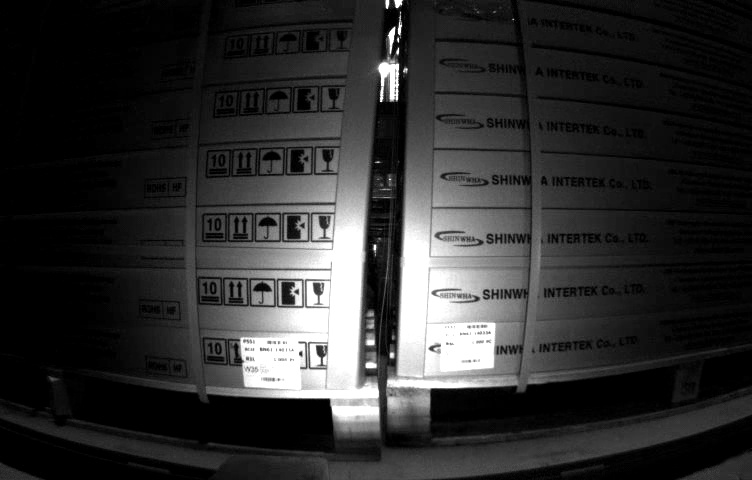True Barcode: (240, 336, 302, 390), (442, 322, 497, 372)
